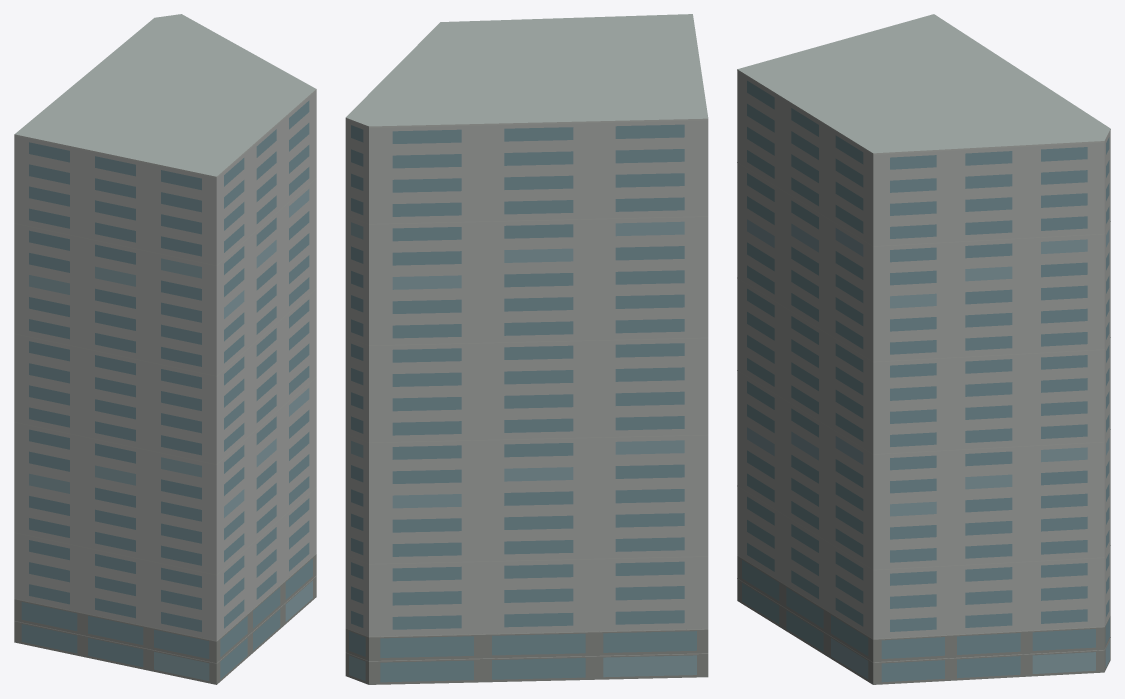
Rendered from residential-afc28a4f-e760-4678-b8e7-c922f9414c9f.glb.
The picture shows the model from 3 angles, left to right: view 1: azimuth 30°, elevation 25°; view 2: azimuth 150°, elevation 25°; view 3: azimuth 270°, elevation 25°; orthographic projection. The views are drawn at different scales.
Visible parts, largest first — view 1: residential-afc28a4f-e760-4678-b8e7-c922f9414c9f.tmp; view 2: residential-afc28a4f-e760-4678-b8e7-c922f9414c9f.tmp; view 3: residential-afc28a4f-e760-4678-b8e7-c922f9414c9f.tmp.
Boxes of the visible parts, x1=… form: residential-afc28a4f-e760-4678-b8e7-c922f9414c9f.tmp: x1=14, y1=14, x2=316, y2=684; residential-afc28a4f-e760-4678-b8e7-c922f9414c9f.tmp: x1=345, y1=14, x2=708, y2=684; residential-afc28a4f-e760-4678-b8e7-c922f9414c9f.tmp: x1=737, y1=14, x2=1110, y2=684.
Bounding box in the file's own units: 47.24 × 84 × 53.51.
